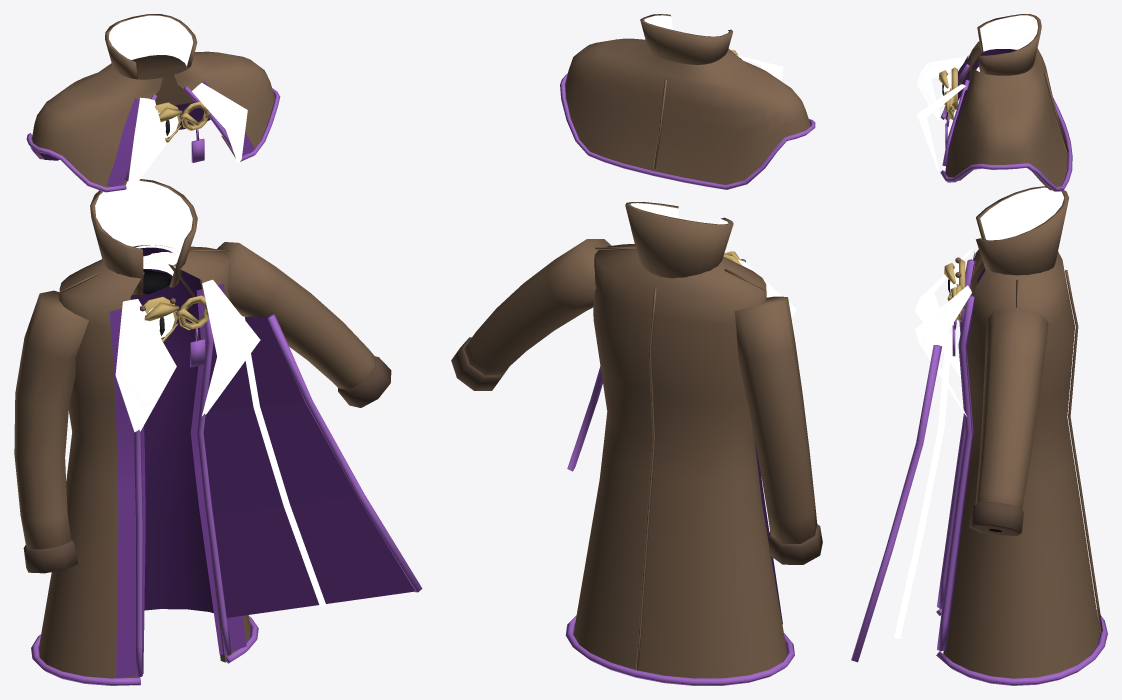
File: coat-turncoat.glb
3 views of the same model, side by side, from view 1: azimuth 30°, elevation 25°; view 2: azimuth 150°, elevation 25°; view 3: azimuth 270°, elevation 25° (orthographic). The views are drawn at different scales.
Visible parts, largest first — view 1: coat-turncoat, coat-turncoat_worn, sway_sleeve_r; view 2: coat-turncoat, coat-turncoat_worn, sway_sleeve_r; view 3: coat-turncoat, coat-turncoat_worn.
Part boxes in pixels (left/top/right/bottom): coat-turncoat: left=31, top=179, right=422, bottom=685; coat-turncoat_worn: left=26, top=14, right=280, bottom=192; sway_sleeve_r: left=14, top=290, right=88, bottom=573; coat-turncoat: left=451, top=202, right=796, bottom=685; coat-turncoat_worn: left=560, top=14, right=815, bottom=189; sway_sleeve_r: left=735, top=296, right=822, bottom=564; coat-turncoat: left=851, top=186, right=1107, bottom=685; coat-turncoat_worn: left=917, top=14, right=1072, bottom=191.
Size of the model in its own units: 1.32 by 2.16 by 0.8258.
